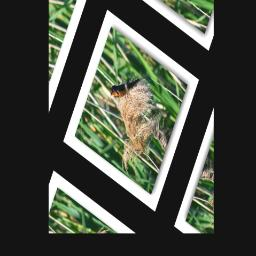Swallow: (107, 58, 144, 114)
